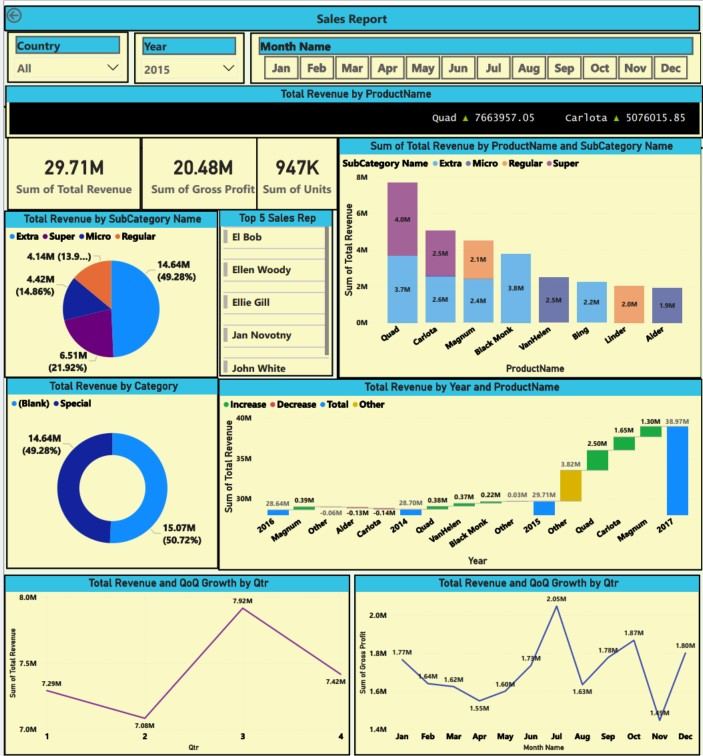

The page's visual inventory and layout, read from the dashboard file:
{"tool":"powerbi","page":{"name":"Page 1","canvas":[1400,1500],"ordinal":0},"visuals":[{"type":"textbox","box":[0,0,1391.7,51.7],"z":0},{"type":"slicer","fields":{"Values":["Geography.Country"]},"box":[5.3,53,243.3,103.3],"z":1000},{"type":"slicer","fields":{"Values":["DateMaster.Year"]},"box":[260.1,53.7,220.7,102.6],"z":2000},{"type":"slicer","fields":{"Values":["DateMaster.Month Name"]},"box":[492.8,53.7,903.3,102.6],"z":3000},{"type":"shape","box":[0,183.1,1399.4,37.6],"z":4000},{"type":"shape","box":[8.6,268.6,1390.9,34.2],"z":5000},{"type":"card","fields":{"Values":["Sales.Total Revenue"]},"box":[6,260,268,150],"z":6000},{"type":"card","fields":{"Values":["Sales.Gross Profit"]},"box":[274,260,248,150],"z":7000},{"type":"card","fields":{"Values":["Sales.Units"]},"box":[504,260,164,150],"z":8000},{"type":"shape","box":[618.3,268.3,98.3,501.7],"z":9000},{"type":"pieChart","title":"Total Revenue by SubCategory Name","fields":{"Y":["Sales.Total Revenue"],"Category":["SubCategory.SubCategory Name"]},"box":[0,409,428.3,335],"z":10000},{"type":"donutChart","title":"Total Revenue by Category","fields":{"Y":["Sales.Total Revenue"],"Category":["Categories.Category"]},"box":[3.4,744,425,383.3],"z":11000},{"type":"multiRowCard","title":"Top 5 Sales Rep","fields":{"Values":["Sales rep.Sales Rep Name"]},"box":[430,408,228,334],"z":12000},{"type":"ScrollingTextVisual1448795304508","title":"Total Revenue by ProductName","fields":{"Category":["Product.ProductName"],"Measure Deviation":["Sales.Total Revenue"]},"box":[1.7,160,1398,106],"z":13000},{"type":"waterfallChart","title":"Total Revenue by Year and ProductName","fields":{"Category":["DateMaster.Year"],"Breakdown":["Product.ProductName"],"Y":["Sales.Total Revenue"]},"box":[428,746,970,384],"z":14000},{"type":"actionButton","box":[0,0,100,40],"z":15000},{"type":"columnChart","fields":{"Category":["Product.ProductName"],"Y":["Sales.Total Revenue"],"Series":["SubCategory.SubCategory Name"]},"box":[667,264.3,728.3,481.7],"z":16000},{"type":"lineChart","title":"Total Revenue and QoQ Growth by Qtr","fields":{"Y":["Sales.Total Revenue"],"Category":["DateMaster.Qtr"]},"box":[0,1138,692,362],"z":17000},{"type":"lineChart","title":"Total Revenue and QoQ Growth by Qtr","fields":{"Category":["DateMaster.Month Name"],"Y":["Sales.Gross Profit"]},"box":[700,1138,692,362],"z":18000}]}

Visuals, with their boxes in screenshot pixels (x1, y1, x2, y2), scaled from the page's 1400x1500 canvas onto the 703x756 screenshot:
textbox: 0:0:699:26
slicer - Geography.Country: 3:27:125:79
slicer - DateMaster.Year: 131:27:241:79
slicer - DateMaster.Month Name: 247:27:701:79
shape: 0:92:702:111
shape: 4:135:702:153
card - Sales.Total Revenue: 3:131:138:207
card - Sales.Gross Profit: 138:131:262:207
card - Sales.Units: 253:131:335:207
shape: 310:135:360:388
"Total Revenue by SubCategory Name" pieChart: 0:206:215:375
"Total Revenue by Category" donutChart: 2:375:215:568
"Top 5 Sales Rep" multiRowCard: 216:206:330:374
"Total Revenue by ProductName" ScrollingTextVisual1448795304508: 1:81:702:134
"Total Revenue by Year and ProductName" waterfallChart: 215:376:702:570
actionButton: 0:0:50:20
columnChart - Product.ProductName x Sales.Total Revenue: 335:133:701:376
"Total Revenue and QoQ Growth by Qtr" lineChart: 0:574:347:755
"Total Revenue and QoQ Growth by Qtr" lineChart: 352:574:699:755
